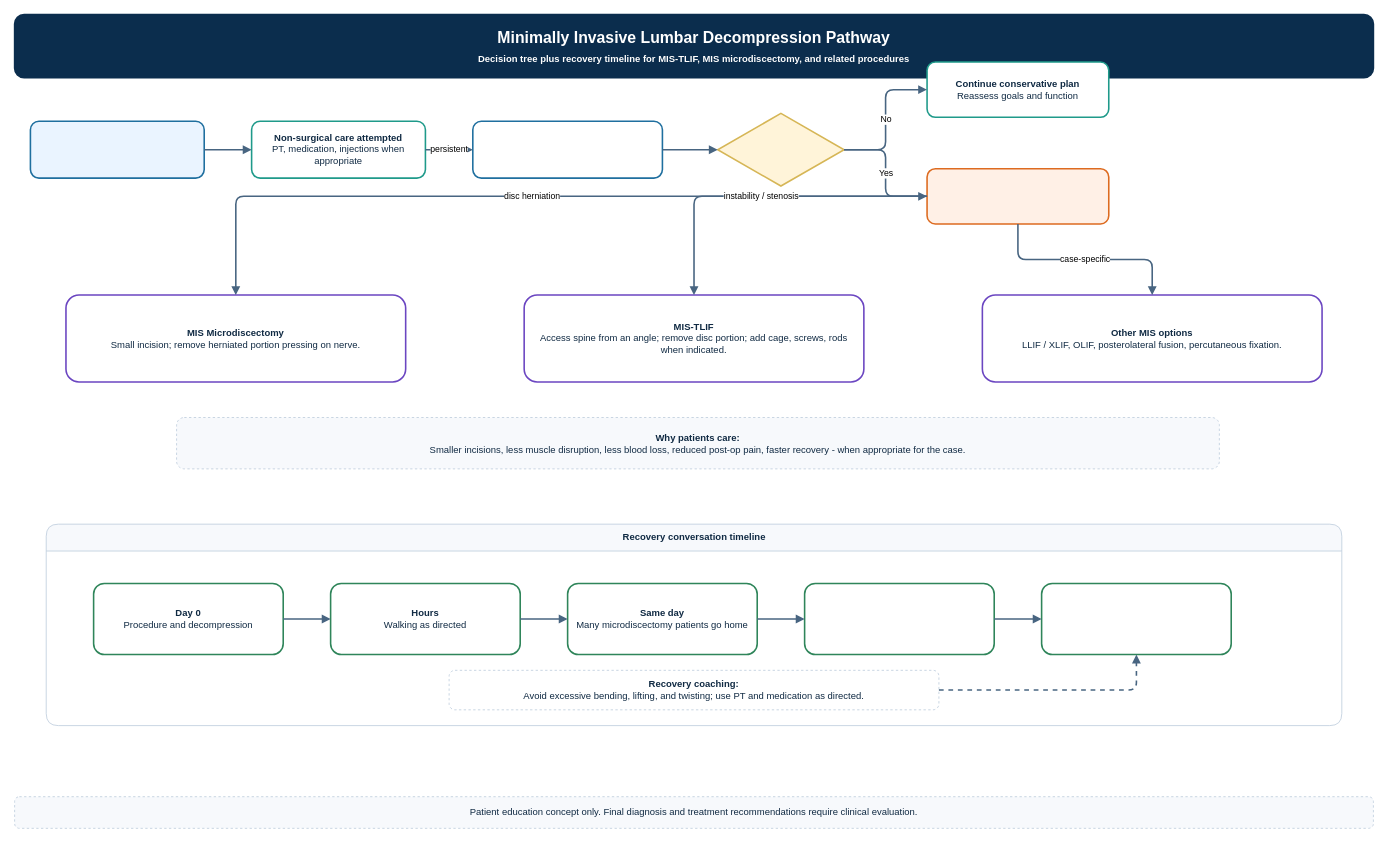
The diagram is 1387 pixels wide and 842 high, and some of its shapes have lost their labels. The shapes that lost their labels are listed below. From the top down, each one's centre as x and y in pixels, then its label:
(x=117, y=149): Persistent lumbar symptoms Back and/or leg pain, numbness, paresthesia
(x=567, y=149): Imaging confirms compression Disc, stenosis, instability, recurrent herniation
(x=781, y=149): Surgical candidate?
(x=1017, y=195): Select MIS approach Match anatomy, symptoms, goals
(x=899, y=618): 2 weeks Driving, work, low-impact activity may resume
(x=1136, y=618): <= 6 weeks Typical recovery window; patient-specific
